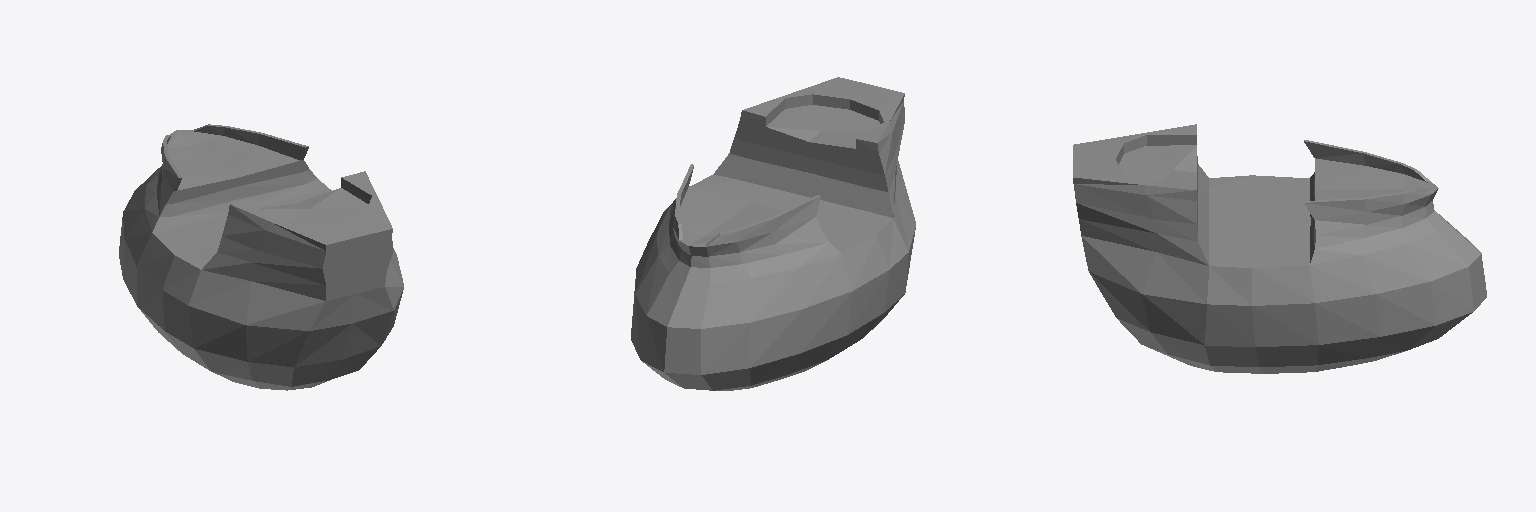
File: korpus.obj
3 views of the same model, side by side, from view 1: azimuth 30°, elevation 25°; view 2: azimuth 150°, elevation 25°; view 3: azimuth 270°, elevation 25° (orthographic).
Parts seen in each view (by area): view 1: Line004; view 2: Line004; view 3: Line004.
Part boxes in pixels (x1,y1,x2,y2): Line004: (119, 124, 403, 390); Line004: (631, 77, 915, 390); Line004: (1073, 124, 1486, 373).
Size of the model in its own units: 103 by 90.51 by 172.